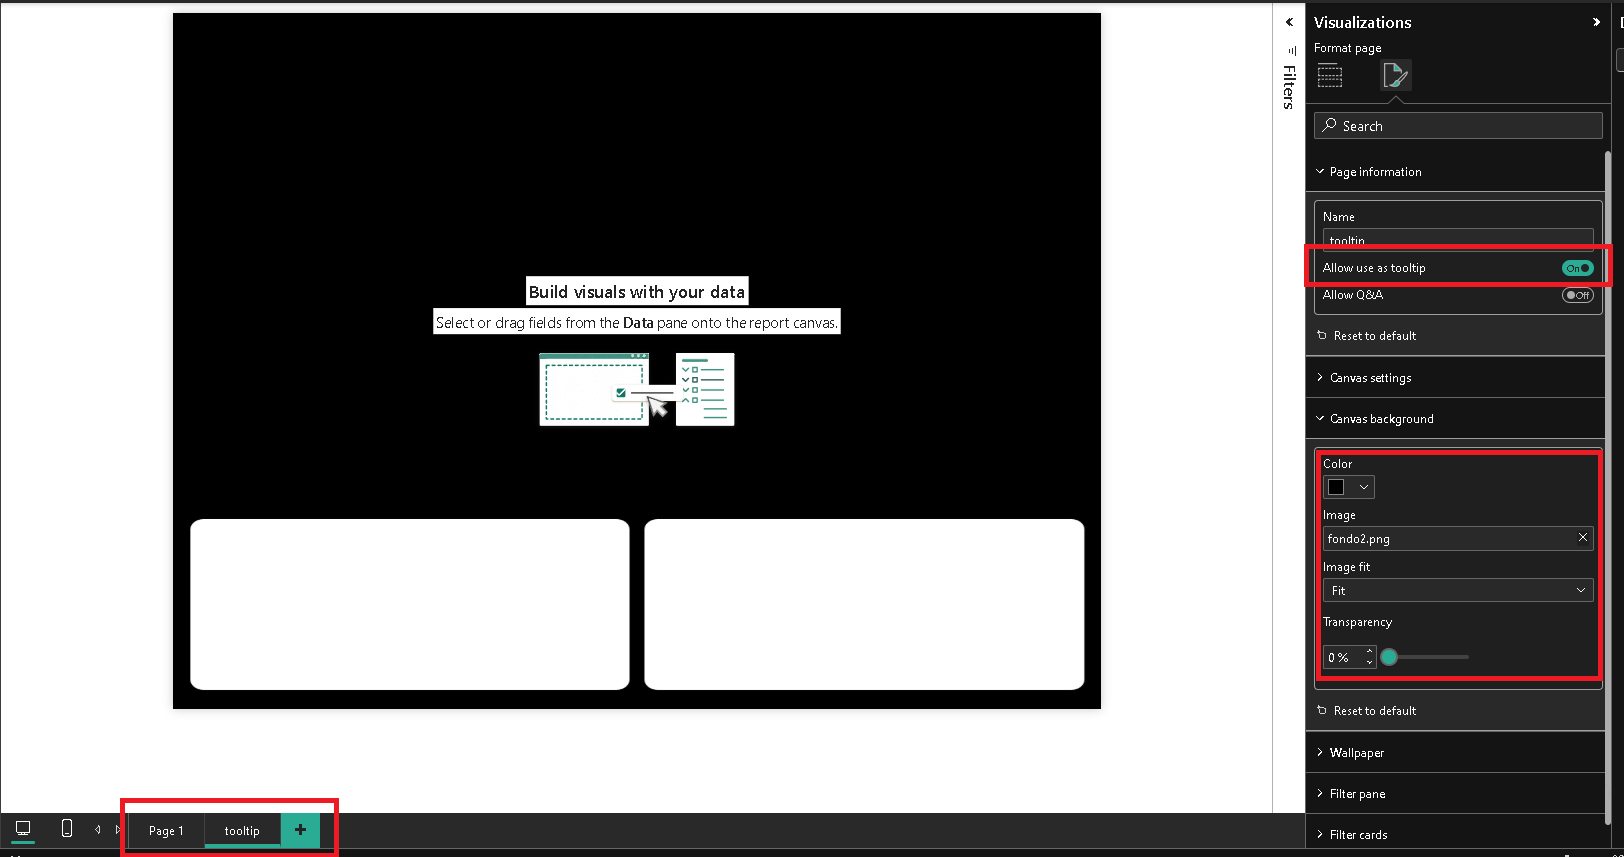

The dashboard page shown, as its layout file describes it:
{"tool":"powerbi","page":{"name":"tooltip","canvas":[320,240],"ordinal":1},"visuals":[{"type":"barChart","fields":{"Category":["DataRH.Cargo"],"Y":["Sum(DataRH.Tiempo Extra)"]},"box":[6.9,3.4,305.9,163.1],"z":0},{"type":"cardVisual","fields":{"Data":["Sum(DataRH.Salario)"]},"box":[156.9,166.6,163.1,66.2],"z":1000},{"type":"cardVisual","fields":{"Data":["DataRH.Personal Activo"]},"box":[10,166.6,143.4,66.2],"z":2000}]}

Visuals, with their boxes on the page's 320x240 design canvas (x1, y1, x2, y2). These are canvas units, not pixel positions in the 1624x857 screenshot, which may show the page scaled, cropped or inside an application window:
barChart - DataRH.Cargo x Sum(DataRH.Tiempo Extra): left=7, top=3, right=313, bottom=166
cardVisual - Sum(DataRH.Salario): left=157, top=167, right=320, bottom=233
cardVisual - DataRH.Personal Activo: left=10, top=167, right=153, bottom=233
